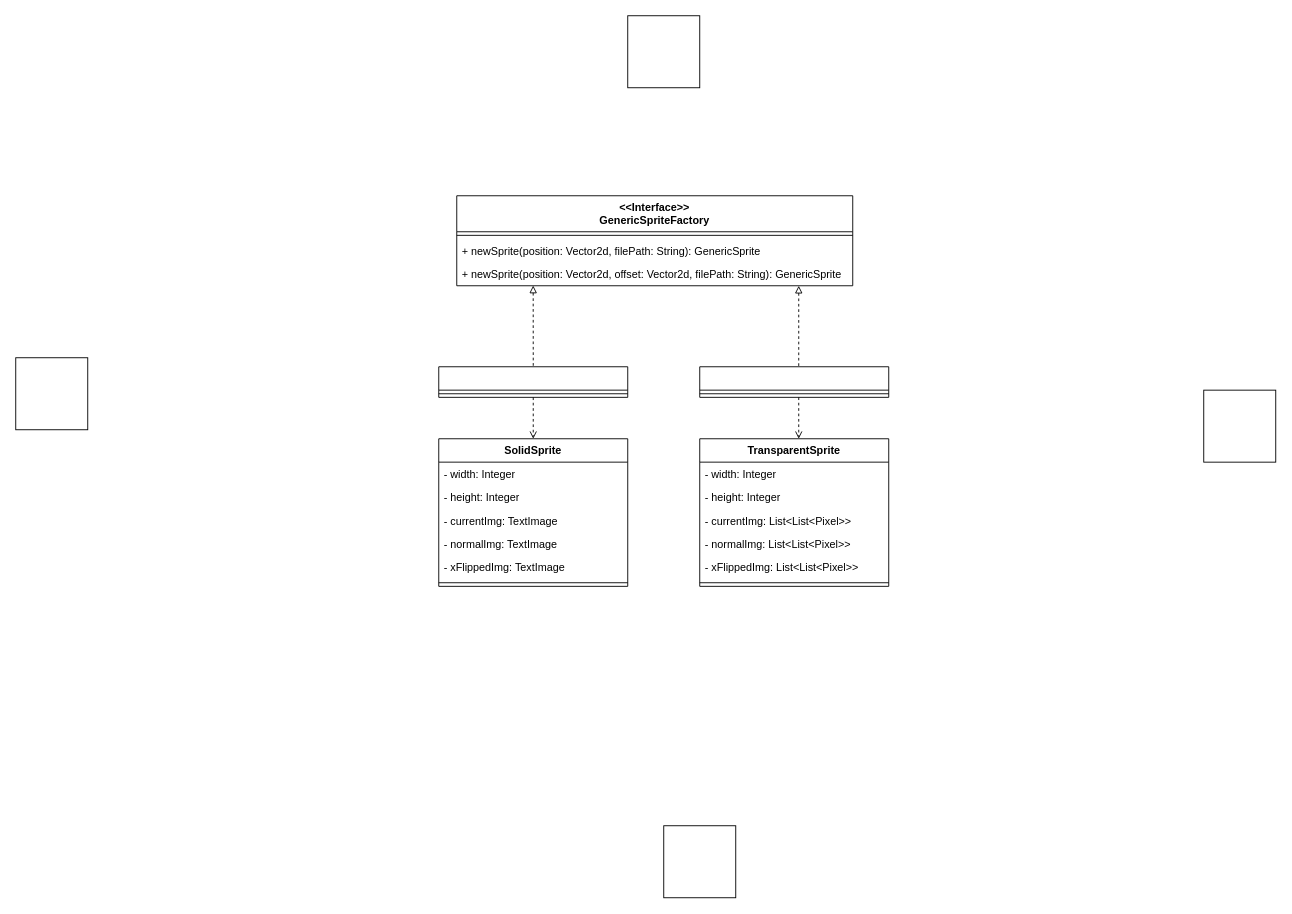
This 1292x914 diagram has some shape labels left out. Each missing label, with the centre of its shape:
"SolidSpriteFactory" belongs at point 533,381.
"TransparentSpriteFactory" belongs at point 794,381.
